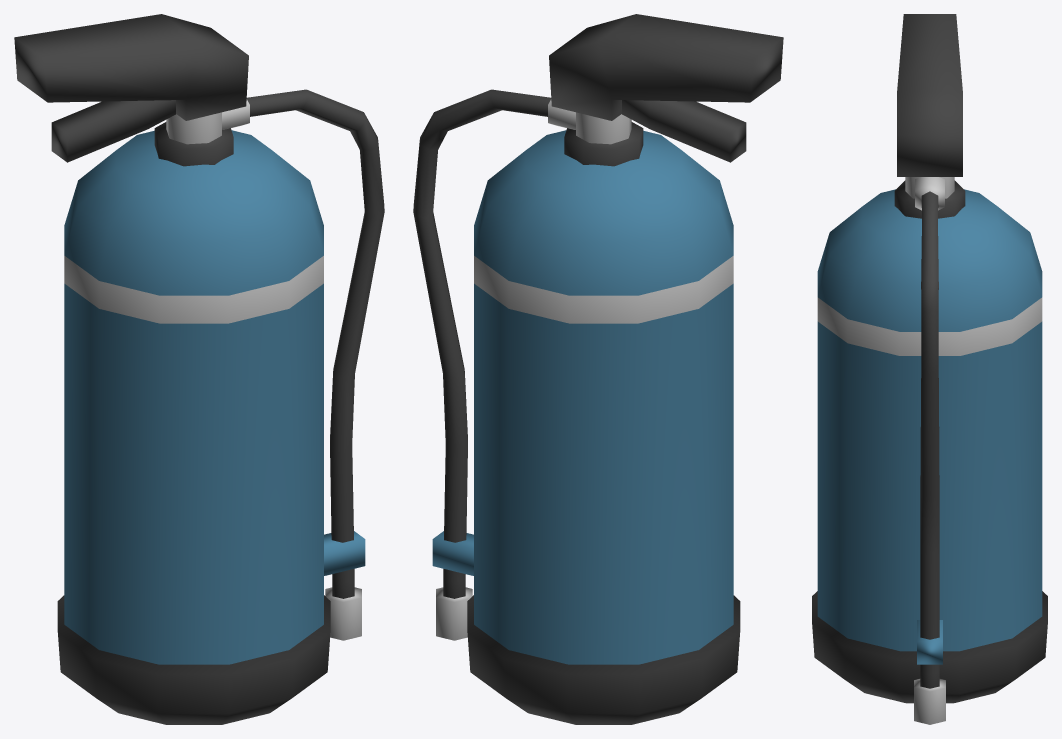
The model's file is mesh_extinguisher_01.fbx.
The picture shows the model from 3 angles, left to right: view 1: azimuth 30°, elevation 25°; view 2: azimuth 150°, elevation 25°; view 3: azimuth 270°, elevation 25°; orthographic projection. The views are drawn at different scales.
Visible parts, largest first — view 1: mesh_extinguisher_01; view 2: mesh_extinguisher_01; view 3: mesh_extinguisher_01.
Boxes of the visible parts, x1,y1,x2,y2 form: mesh_extinguisher_01: (14, 14, 384, 724); mesh_extinguisher_01: (413, 14, 783, 724); mesh_extinguisher_01: (812, 14, 1047, 724).
Bounding box in the file's own units: 13.76 × 24.94 × 9.16.
